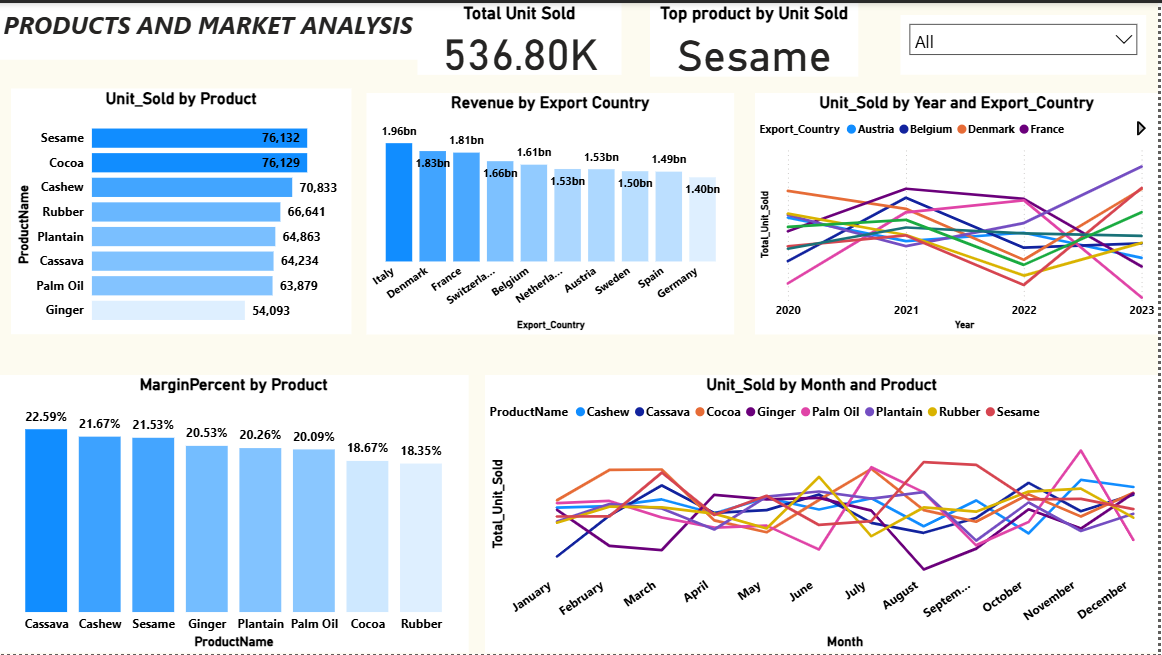

What the dashboard file says about the page in this screenshot:
{"tool":"powerbi","page":{"name":"Page 1","canvas":[1280,720],"ordinal":0},"visuals":[{"type":"card","title":"Total Unit Sold","fields":{"Values":["Agricultural_Export_Data.Total_Unit_Sold"]},"box":[462.2,0,225.3,79.5],"z":0},{"type":"clusteredBarChart","title":"Unit_Sold by Product","fields":{"Category":["Agricultural_Export_Data.ProductName"],"Y":["Agricultural_Export_Data.Total_Unit_Sold"]},"box":[13.3,94.4,376,271.7],"z":1000},{"type":"card","title":"Top product by Unit Sold","fields":{"Values":["Agricultural_Export_Data.TopProductByUnits"]},"box":[718.9,0,230.3,81.2],"z":2000},{"type":"columnChart","title":"MarginPercent by Product","fields":{"Category":["Agricultural_Export_Data.ProductName"],"Y":["Agricultural_Export_Data.MarginPercent"]},"box":[0,410.8,518.5,306.4],"z":3000},{"type":"lineChart","title":"Unit_Sold by Month and Product","fields":{"Y":["Agricultural_Export_Data.Total_Unit_Sold"],"Category":["Agricultural_Export_Data.Date.Variation.Date Hierarchy.Month"],"Series":["Agricultural_Export_Data.ProductName"]},"box":[536.7,410.8,743.8,306.4],"z":4000},{"type":"columnChart","title":"Revenue by Export Country","fields":{"Category":["Agricultural_Export_Data.Export_Country"],"Y":["Agricultural_Export_Data.Revenue"]},"box":[405.8,99.4,405.8,266.7],"z":5000},{"type":"lineChart","title":"Unit_Sold by Year and Export_Country","fields":{"Series":["Agricultural_Export_Data.Export_Country"],"Y":["Agricultural_Export_Data.Total_Unit_Sold"],"Category":["Agricultural_Export_Data.Date.Variation.Date Hierarchy.Year"]},"box":[834.9,99.4,445.6,266.7],"z":6000},{"type":"slicer","fields":{"Values":["Agricultural_Export_Data.ProductName"]},"box":[995.5,13.3,271.7,66.3],"z":7000},{"type":"textbox","box":[0,0,483.7,62.9],"z":8000}]}

Visuals, with their boxes in screenshot pixels (x1, y1, x2, y2), scaled from the page's 1280x720 canvas onto the 1162x655 screenshot:
"Total Unit Sold" card: [420, 0, 624, 72]
"Unit_Sold by Product" clusteredBarChart: [12, 86, 353, 333]
"Top product by Unit Sold" card: [653, 0, 862, 74]
"MarginPercent by Product" columnChart: [0, 374, 471, 652]
"Unit_Sold by Month and Product" lineChart: [487, 374, 1161, 652]
"Revenue by Export Country" columnChart: [368, 90, 737, 333]
"Unit_Sold by Year and Export_Country" lineChart: [758, 90, 1161, 333]
slicer - Agricultural_Export_Data.ProductName: [904, 12, 1150, 72]
textbox: [0, 0, 439, 57]
